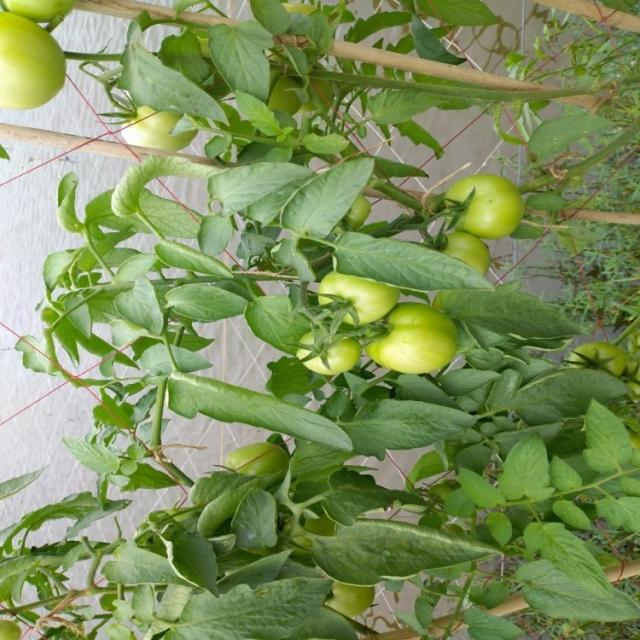tomato: (1, 11, 72, 119), (365, 304, 464, 376), (112, 97, 195, 174), (442, 171, 521, 240), (317, 265, 402, 324), (300, 319, 357, 384), (223, 439, 286, 494), (429, 229, 501, 276), (566, 336, 625, 382), (325, 570, 373, 623), (1, 3, 82, 26), (269, 74, 303, 118)
